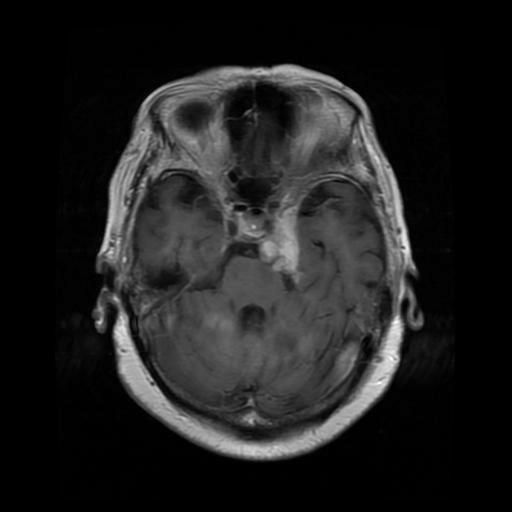Tumour-Meningioma: (212, 200, 343, 286)
